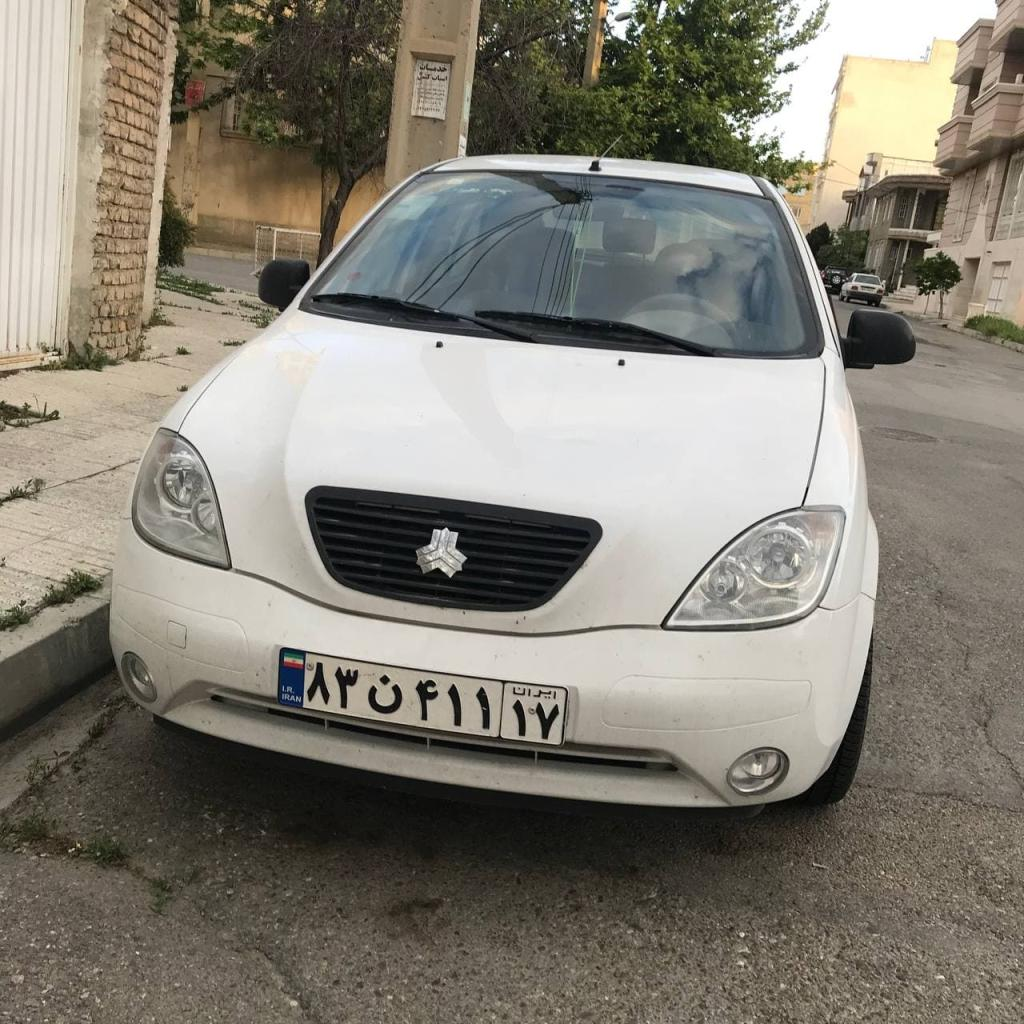Plates: (278, 648, 566, 744)
